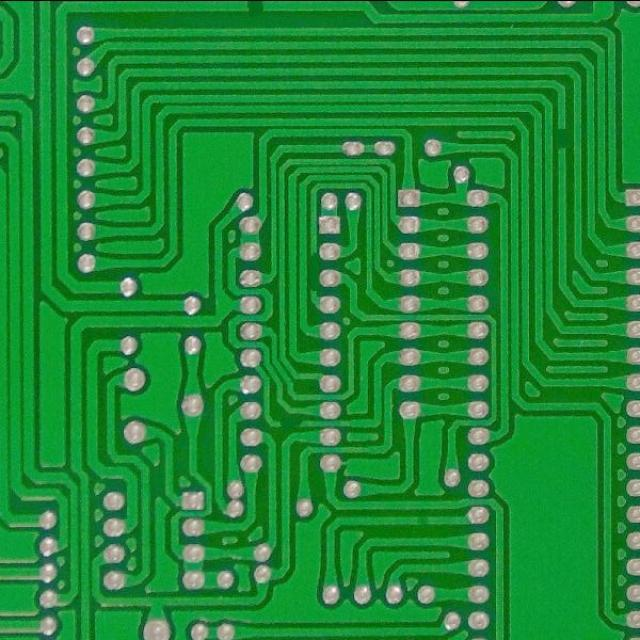Open_Circuit: (554, 118, 570, 159), (237, 0, 274, 17), (273, 415, 309, 432)
